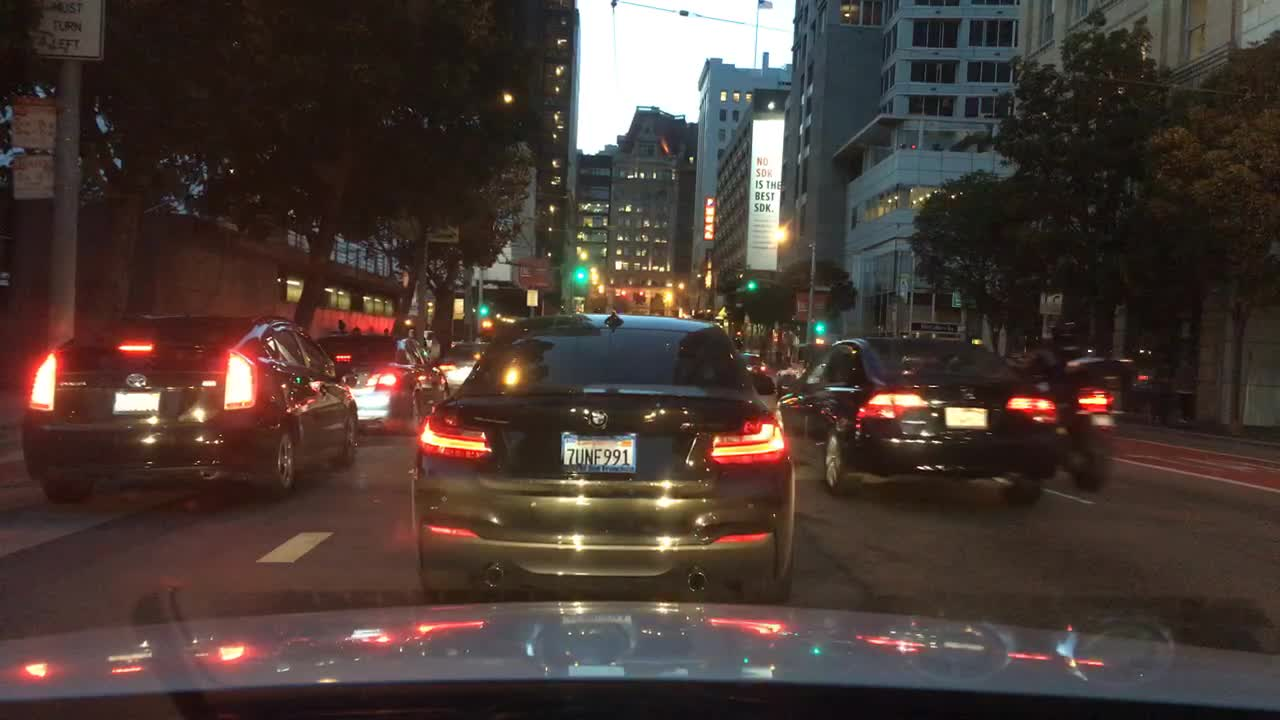car: (409, 310, 794, 606), (20, 315, 359, 502), (778, 335, 1058, 492), (312, 329, 445, 427), (439, 338, 490, 396), (743, 363, 781, 420)
motor: (1058, 345, 1116, 486)
traffic light: (814, 321, 828, 339), (575, 270, 589, 284), (476, 304, 490, 317), (816, 282, 834, 292), (746, 277, 758, 289), (620, 286, 632, 297)
traffic sign: (29, 2, 101, 57), (10, 99, 56, 148), (13, 154, 58, 201), (518, 258, 549, 286), (1039, 292, 1063, 315), (912, 320, 956, 331), (428, 228, 459, 243), (950, 292, 966, 309), (525, 289, 540, 306)
